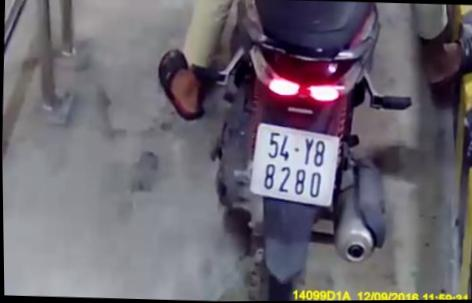LP: (244, 115, 348, 216)
